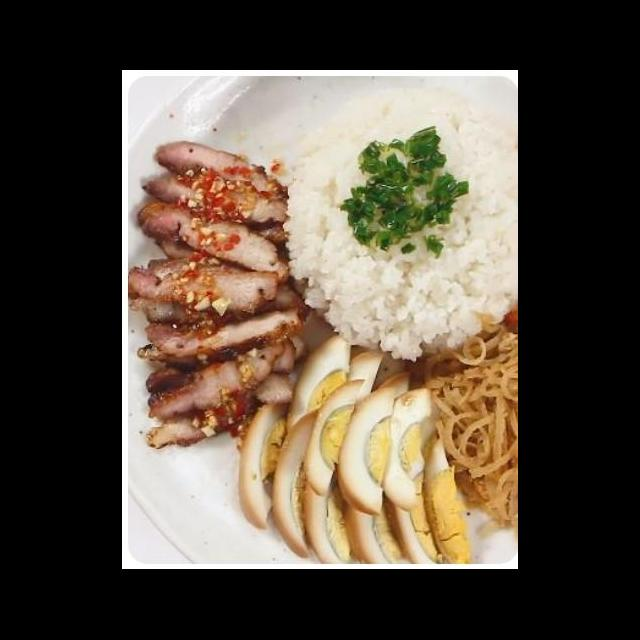bi: (405, 307, 518, 544)
com: (265, 81, 518, 368)
com suon bi trung: (125, 112, 518, 570)
suon: (128, 138, 315, 454)
trung: (234, 332, 477, 570)
